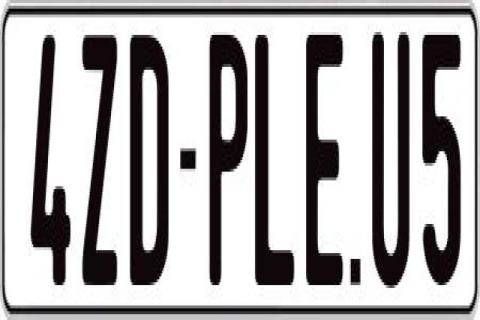0: (420, 32, 462, 300), (30, 29, 71, 288)
D: (128, 35, 169, 294)
E: (303, 29, 341, 297)
L: (255, 29, 294, 288)
P: (209, 32, 253, 300)
U: (369, 29, 413, 285)
Z: (80, 32, 118, 291)
